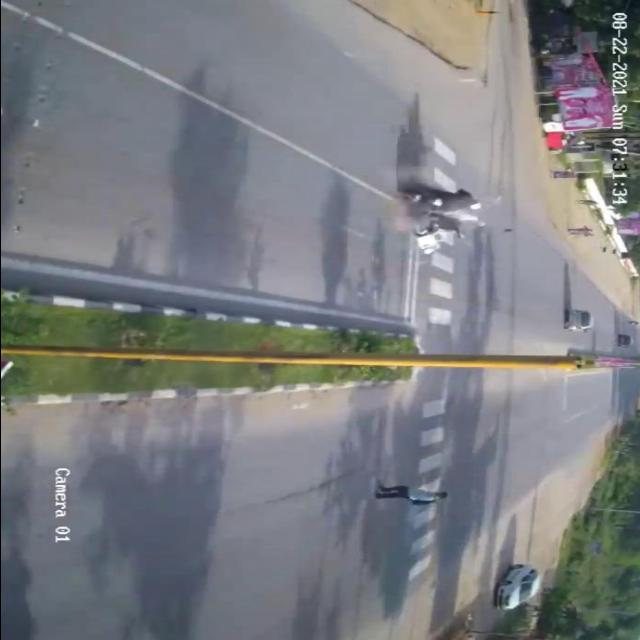accident: (373, 169, 503, 268)
